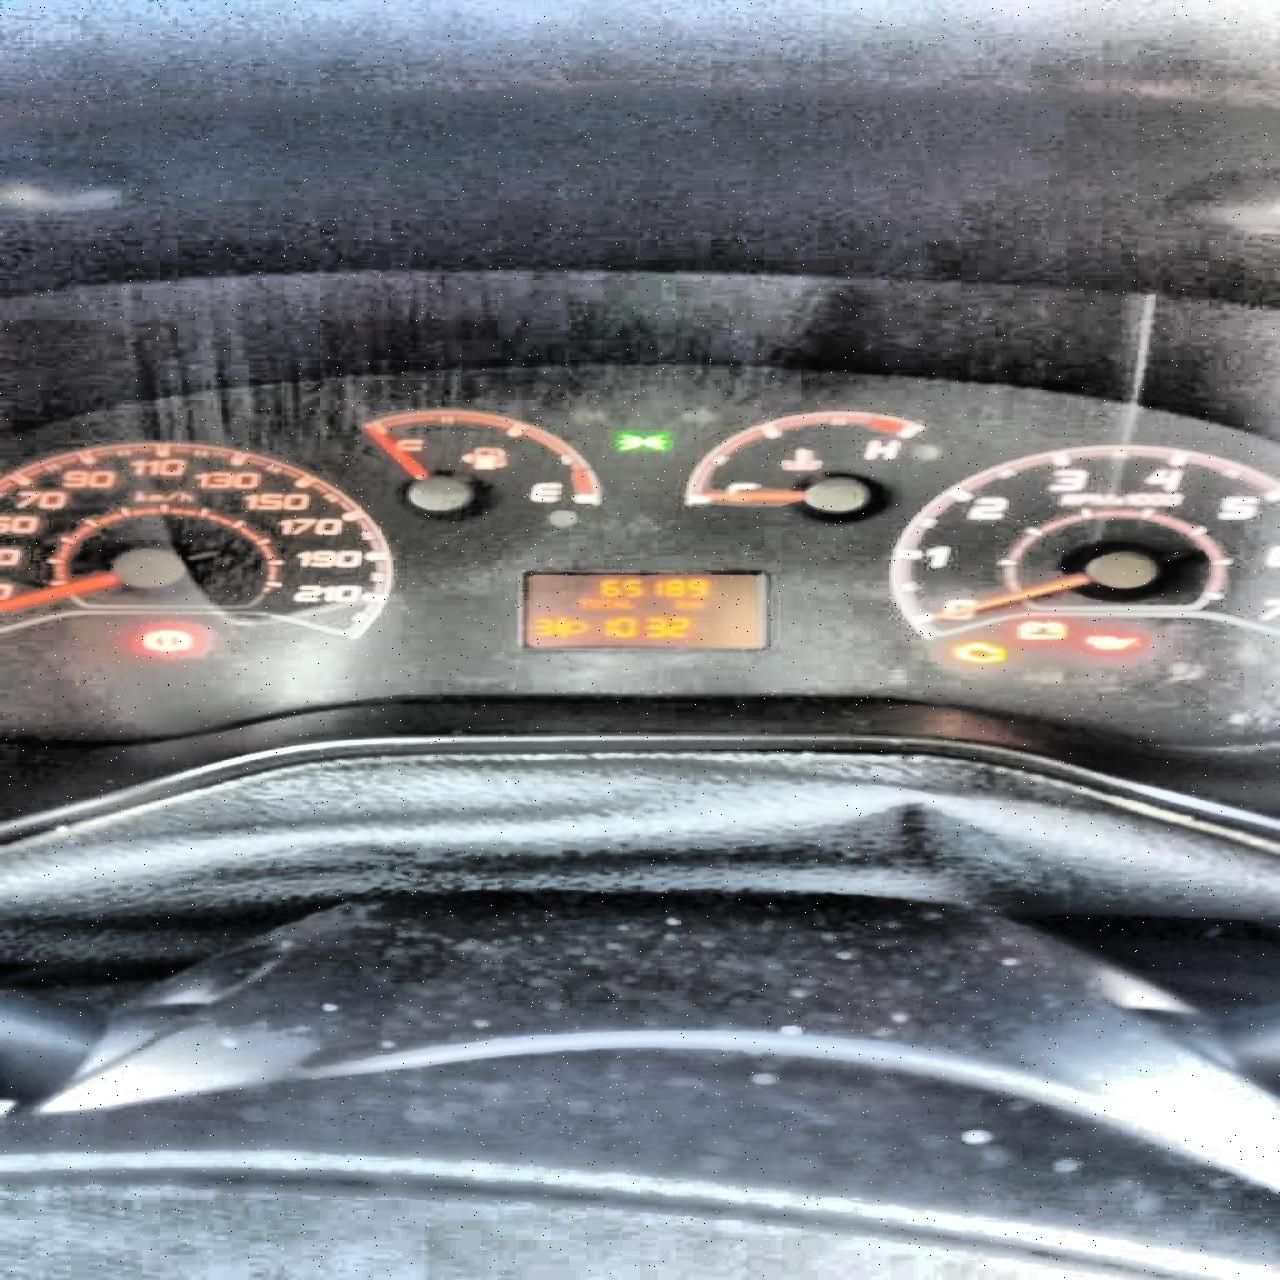0: (611, 617, 635, 636)
1: (600, 618, 613, 636), (654, 580, 662, 595)
2: (665, 615, 689, 636)
3: (642, 617, 665, 636), (531, 617, 553, 635)
5: (620, 578, 642, 597)
6: (598, 579, 620, 595)
8: (662, 579, 685, 597)
9: (685, 579, 707, 597)
X: (620, 599, 633, 610), (598, 598, 611, 608), (586, 598, 598, 608), (611, 599, 620, 610), (578, 598, 586, 608)
odometer: (518, 568, 764, 651)
